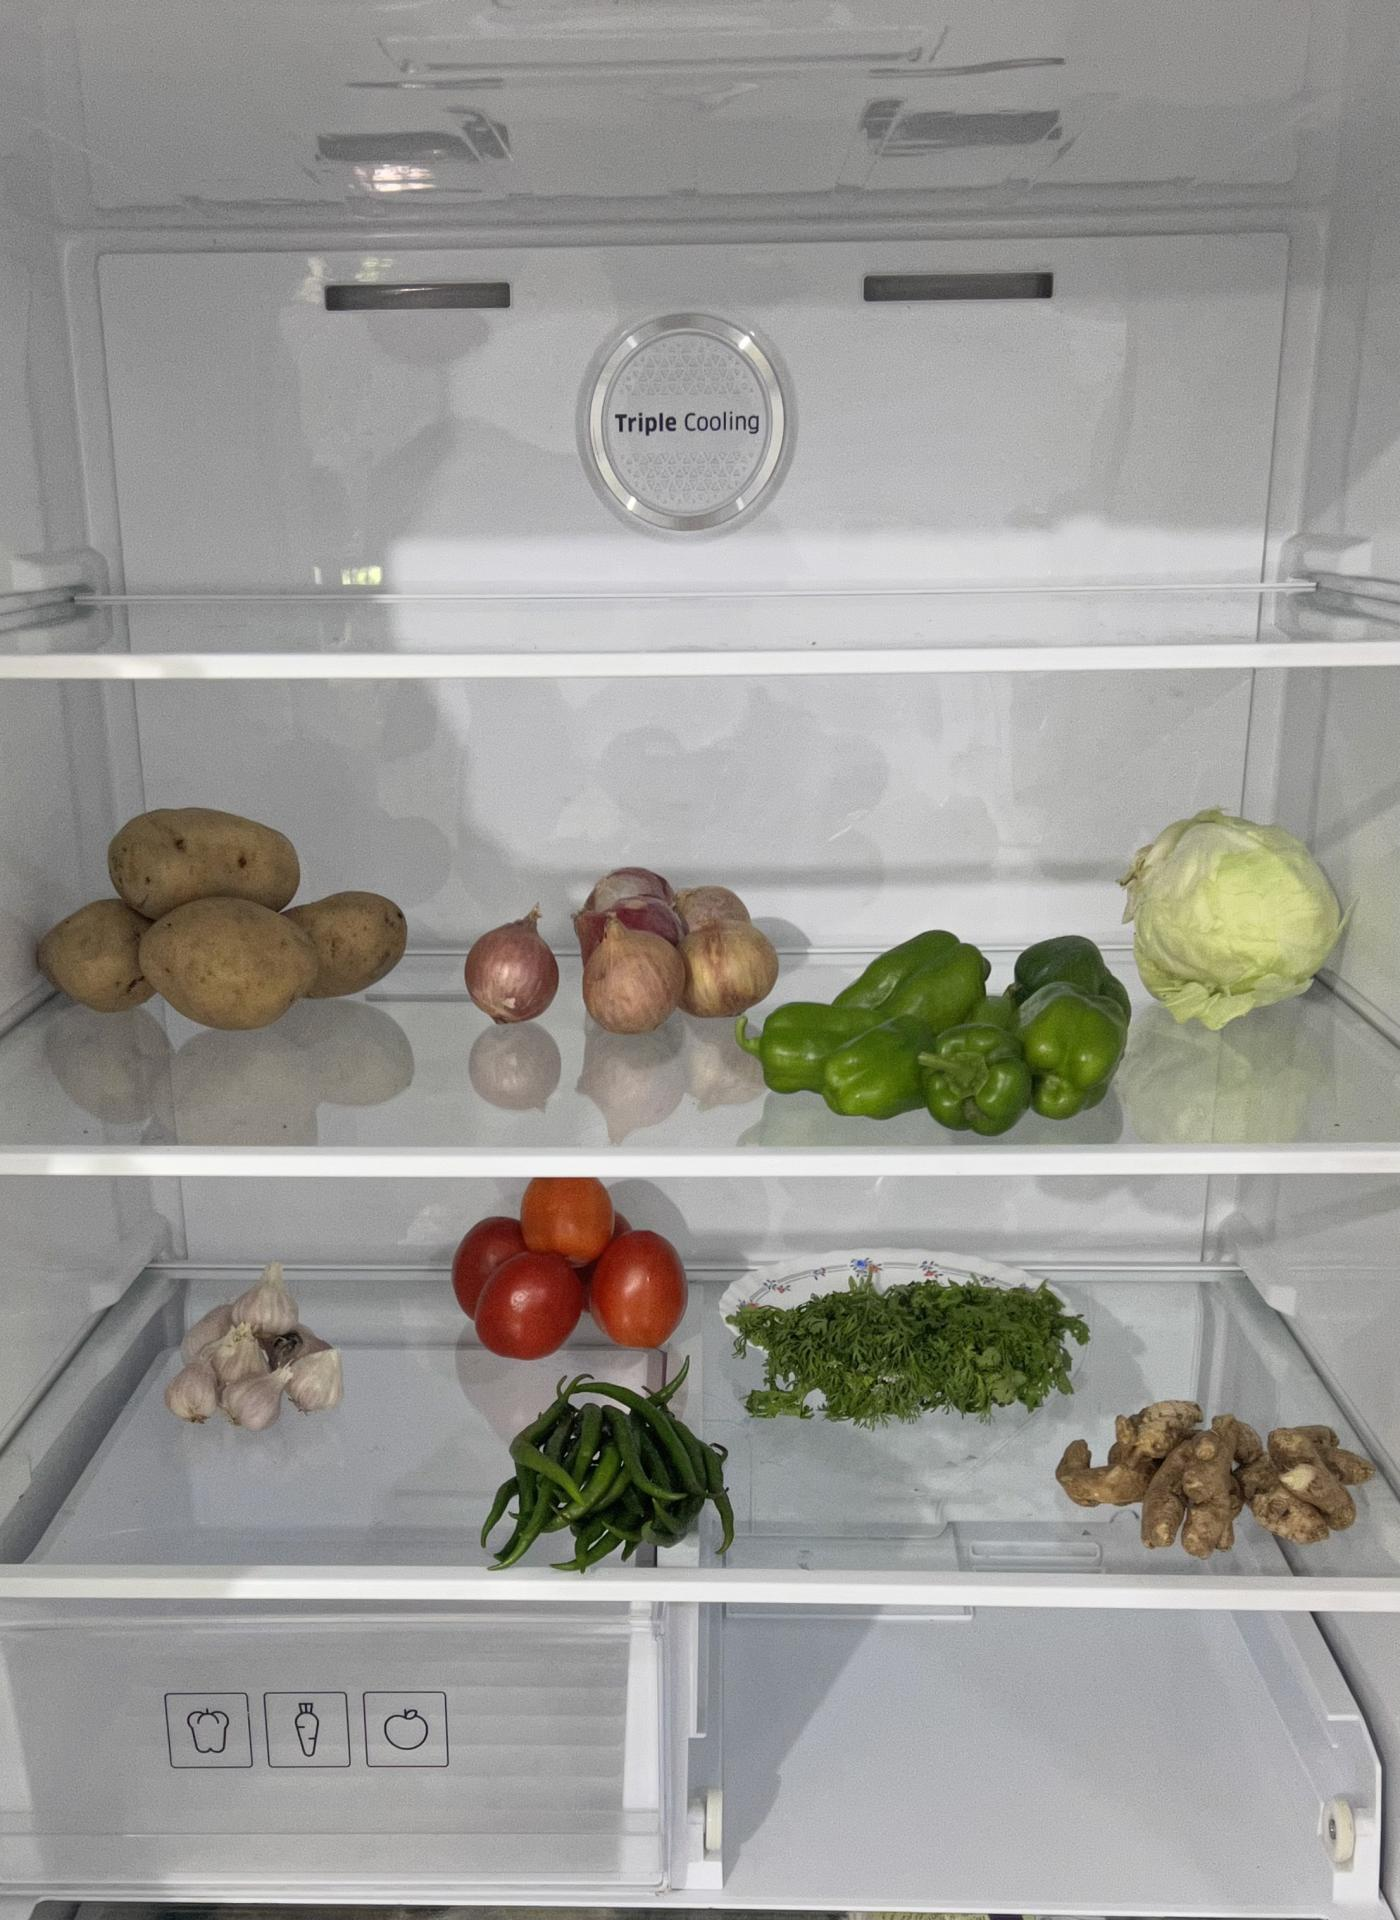cabbage: (1124, 803, 1342, 1018)
capsicum: (744, 929, 1136, 1128)
chillies: (489, 1357, 737, 1571)
coriander: (735, 1269, 1076, 1410)
garlic: (164, 1263, 338, 1430)
ginger: (1063, 1400, 1376, 1559)
onion: (468, 862, 778, 1035)
potato: (37, 806, 406, 1029)
tomato: (450, 1173, 689, 1360)
